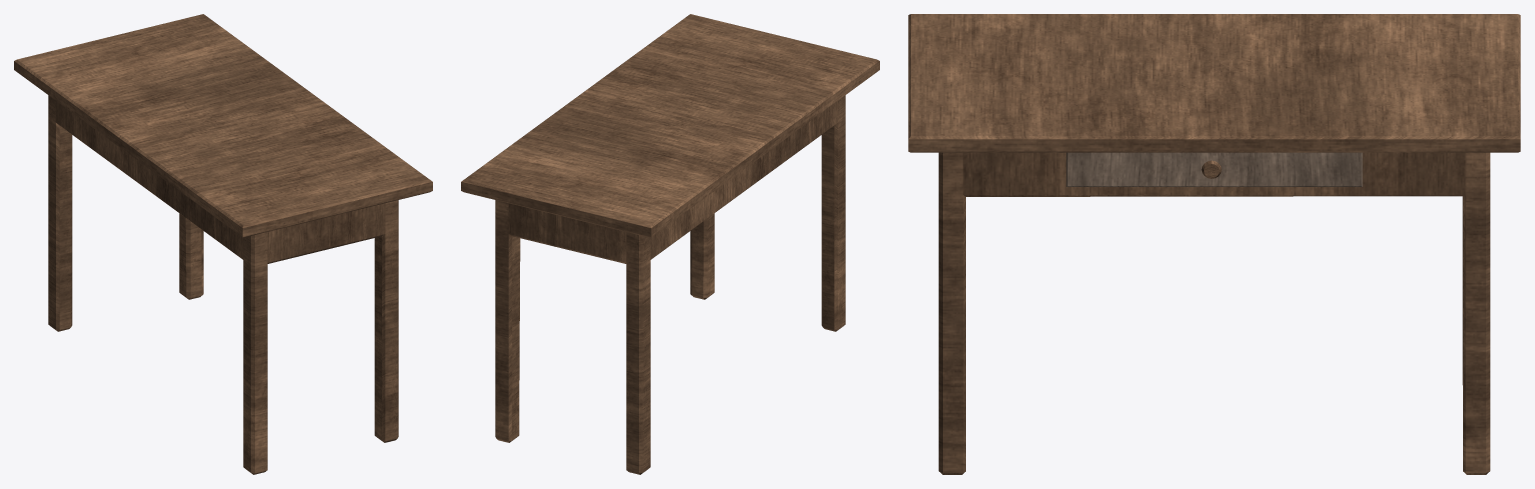
File: Table Ura.fbx
3 views of the same model, side by side, from view 1: azimuth 30°, elevation 25°; view 2: azimuth 150°, elevation 25°; view 3: azimuth 270°, elevation 25° (orthographic). The views are drawn at different scales.
Parts seen in each view (by area): view 1: Plane; view 2: Plane; view 3: Plane, Plane.001.
Boxes of the visible parts, x1,y1,x2,y2 form: Plane: (14,14,432,474); Plane: (461,14,879,474); Plane: (908,14,1520,474); Plane.001: (1066,152,1362,186).
Size of the model in its own units: 50.82 by 67.34 by 106.
